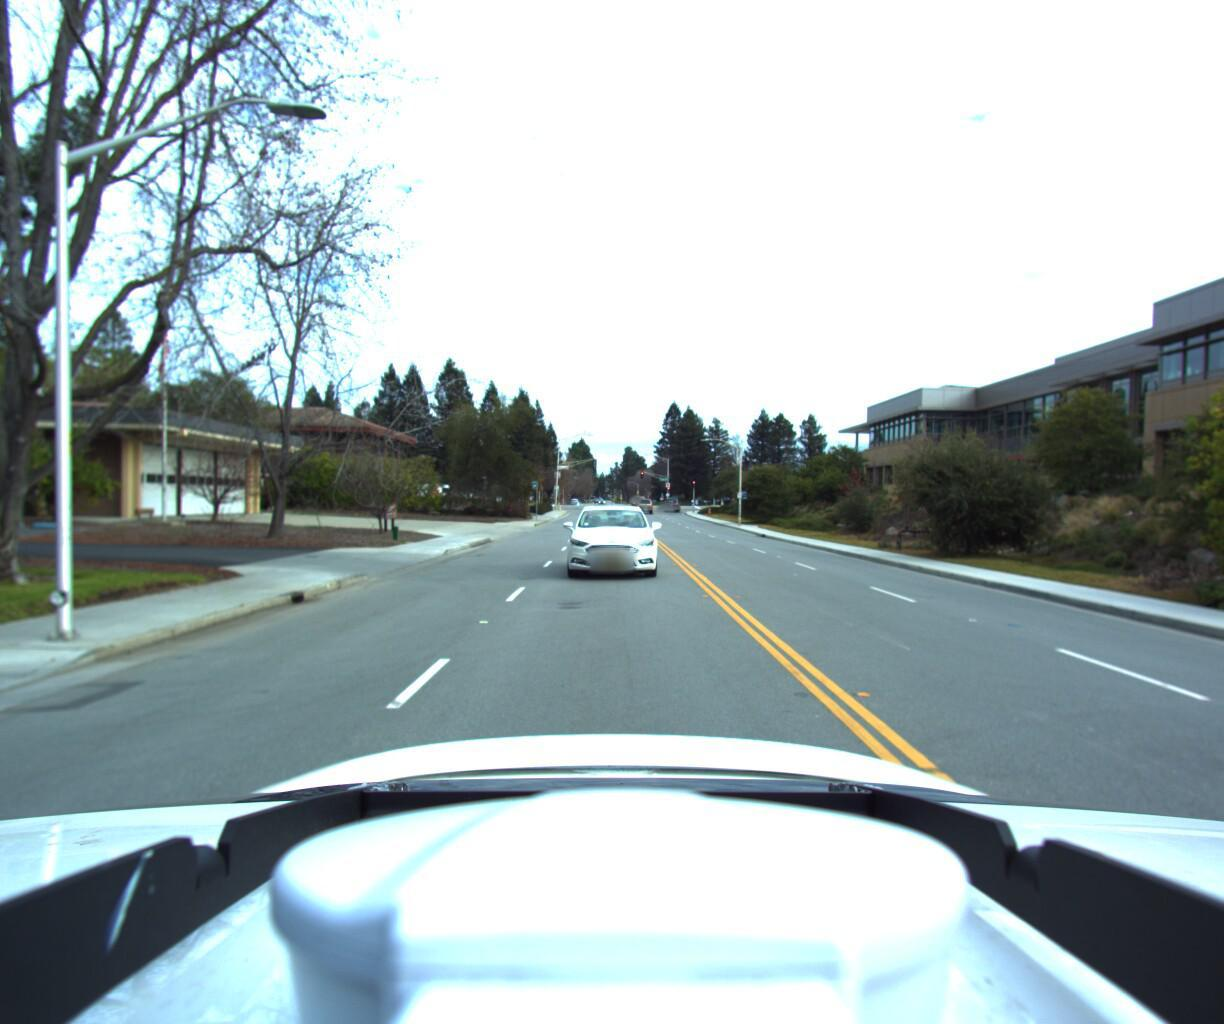car: (559, 501, 657, 580)
